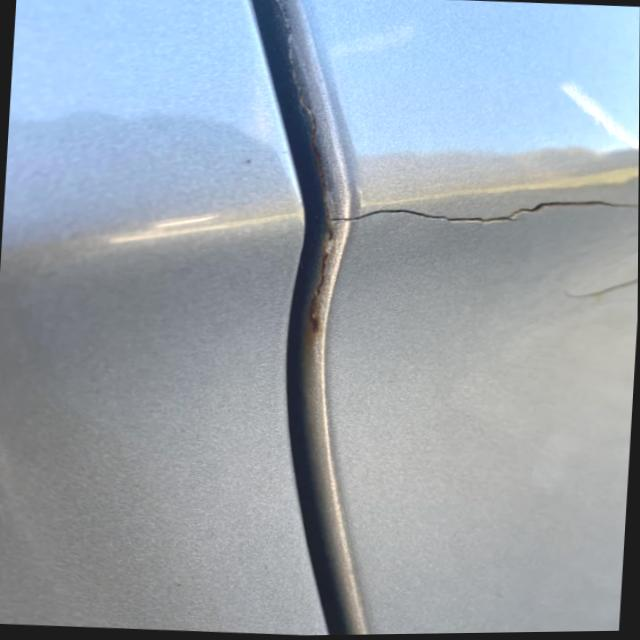Crack: (325, 194, 638, 231)
Paint-Crack: (553, 273, 638, 305)
